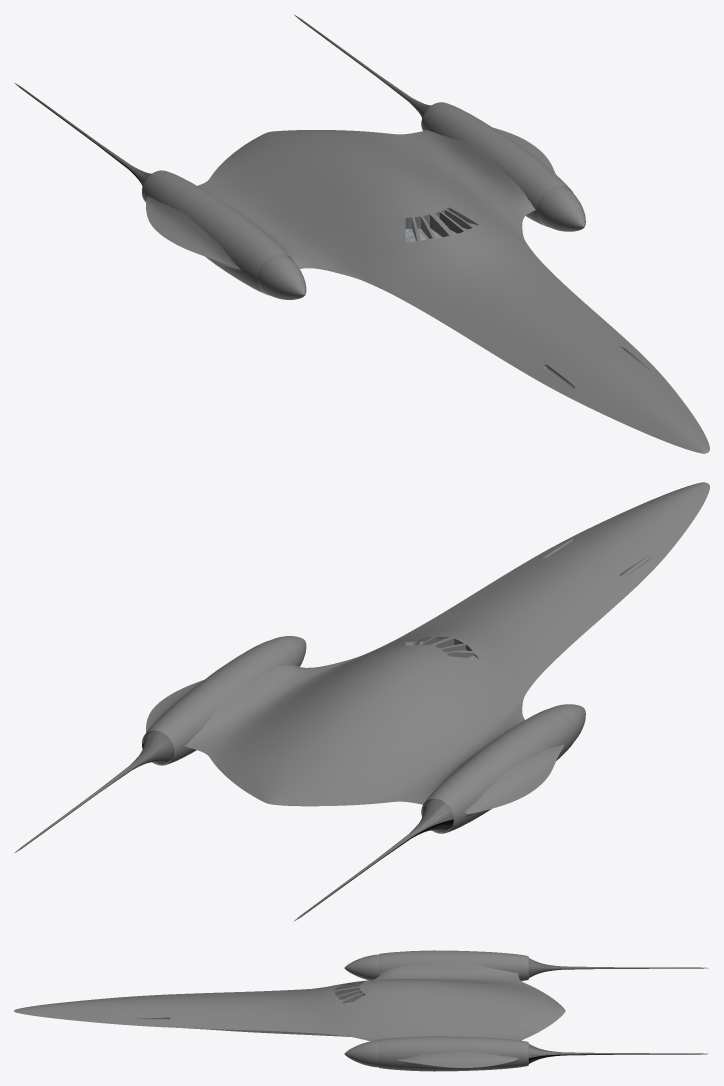
The model's file is naboo_cruiser.glb.
3 views of the same model, one above another, from view 1: azimuth 30°, elevation 25°; view 2: azimuth 150°, elevation 25°; view 3: azimuth 270°, elevation 25° (orthographic). The views are drawn at different scales.
Visible parts, largest first — view 1: Material1 (×4); view 2: Material1 (×3); view 3: Material1 (×5).
Part boxes in pixels (x1,y1,x2,y2): Material1 (×4): (15,15,709,453); Material1 (×3): (15,482,709,921); Material1 (×5): (14,950,708,1071).
Size of what is drawn, in the model's own units: 2769 by 585 by 7141.
3 materials, 3 textured.
